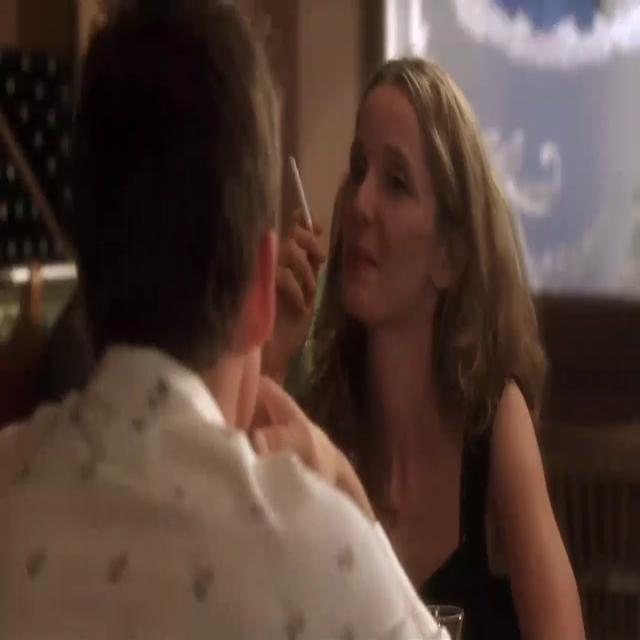Smooking: (286, 141, 318, 250)
